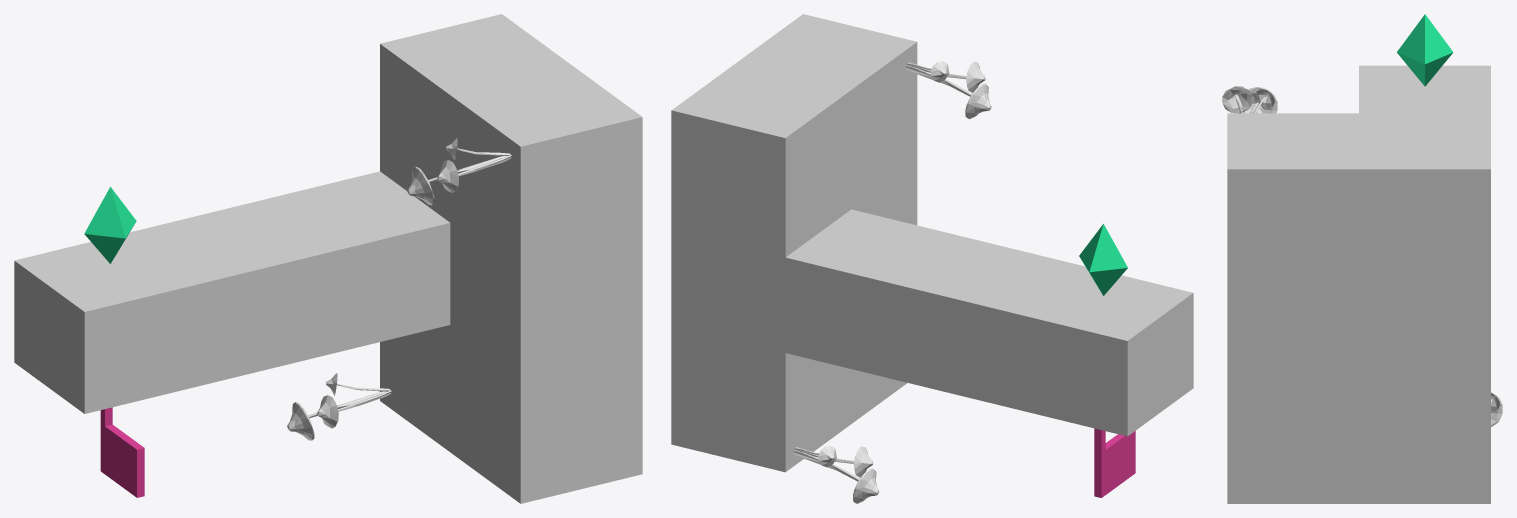
File: Stage3.glb
The picture shows the model from 3 angles, left to right: view 1: azimuth 30°, elevation 25°; view 2: azimuth 150°, elevation 25°; view 3: azimuth 270°, elevation 25°; orthographic projection. The views are drawn at different scales.
Parts seen in each view (by area): view 1: Stage4_0.001, Goal_4, Start_4.001, Mushroom.002, Mushroom.033; view 2: Stage4_0.001, Goal_4, Start_4.001, Mushroom.033, Mushroom.002; view 3: Stage4_0.001, Start_4.001, Mushroom.033.
Boxes of the visible parts, left/top/right/bottom form: Stage4_0.001: left=14, top=14, right=642, bottom=503; Goal_4: left=100, top=407, right=144, bottom=497; Start_4.001: left=84, top=187, right=136, bottom=263; Mushroom.002: left=287, top=373, right=391, bottom=440; Mushroom.033: left=407, top=138, right=511, bottom=205; Stage4_0.001: left=671, top=14, right=1193, bottom=472; Goal_4: left=1094, top=428, right=1135, bottom=497; Start_4.001: left=1079, top=224, right=1127, bottom=295; Mushroom.033: left=905, top=61, right=991, bottom=118; Mushroom.002: left=793, top=445, right=879, bottom=503; Stage4_0.001: left=1227, top=65, right=1490, bottom=503; Start_4.001: left=1397, top=14, right=1453, bottom=86; Mushroom.033: left=1222, top=86, right=1277, bottom=113.
Bounding box in the file's own units: 40 × 29.6 × 21.26.
